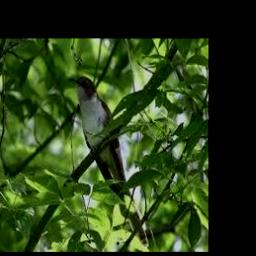Cuckoo: (69, 76, 149, 248)
